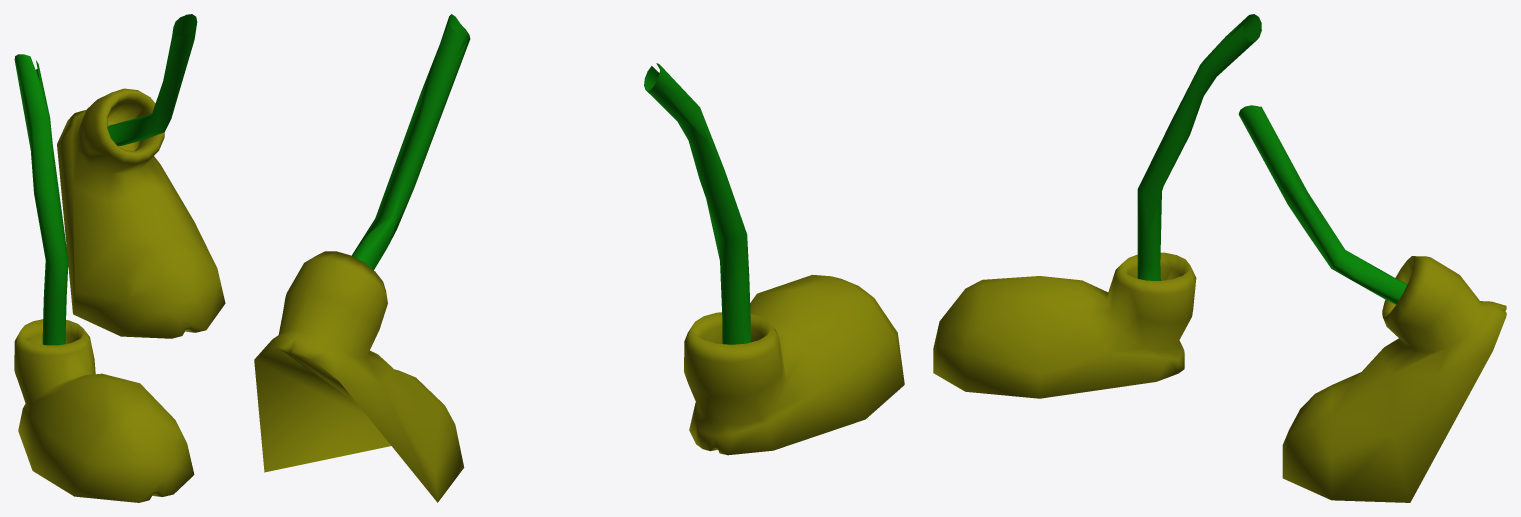
The model's file is nogi2.obj.
The picture shows the model from 3 angles, left to right: view 1: azimuth 30°, elevation 25°; view 2: azimuth 150°, elevation 25°; view 3: azimuth 270°, elevation 25°; orthographic projection. The views are drawn at different scales.
Parts seen in each view (by area): view 1: StopaLewa, StopaPrawa, NogaPrawa, NogaLewa; view 2: StopaLewa, StopaPrawa, NogaPrawa, NogaLewa; view 3: StopaLewa, StopaPrawa, NogaPrawa, NogaLewa.
Part boxes in pixels (left/top/right/bottom): StopaLewa: left=57, top=88, right=225, bottom=338; StopaPrawa: left=14, top=319, right=194, bottom=502; NogaPrawa: left=14, top=54, right=68, bottom=345; NogaLewa: left=107, top=14, right=197, bottom=145; StopaLewa: left=254, top=251, right=464, bottom=502; StopaPrawa: left=684, top=274, right=904, bottom=455; NogaPrawa: left=644, top=63, right=750, bottom=344; NogaLewa: left=351, top=14, right=470, bottom=269; StopaLewa: left=1282, top=256, right=1506, bottom=502; StopaPrawa: left=933, top=252, right=1196, bottom=398; NogaPrawa: left=1137, top=14, right=1261, bottom=280; NogaLewa: left=1238, top=105, right=1407, bottom=304.
Bounding box in the file's own units: 0.8176 × 0.8091 × 1.17.
